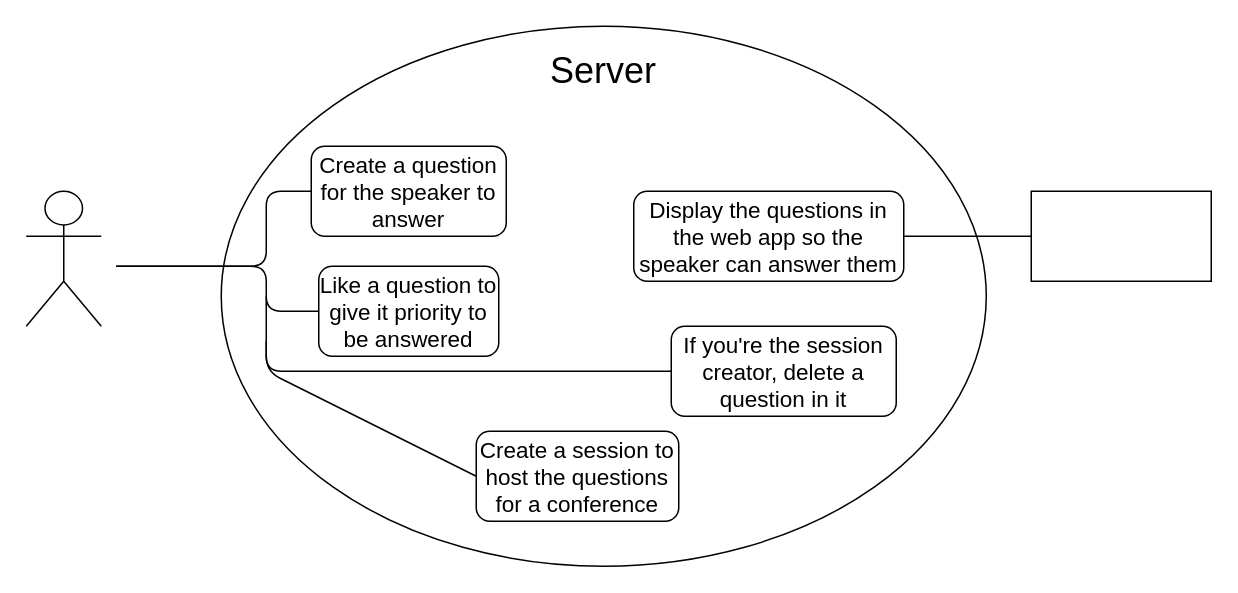
The diagram is 1238 pixels wide and 593 high, and some of its shapes have lost their labels. Each missing label, with the box of its shape:
Screen: (1030, 190, 1211, 281)
User: (25, 190, 101, 326)
